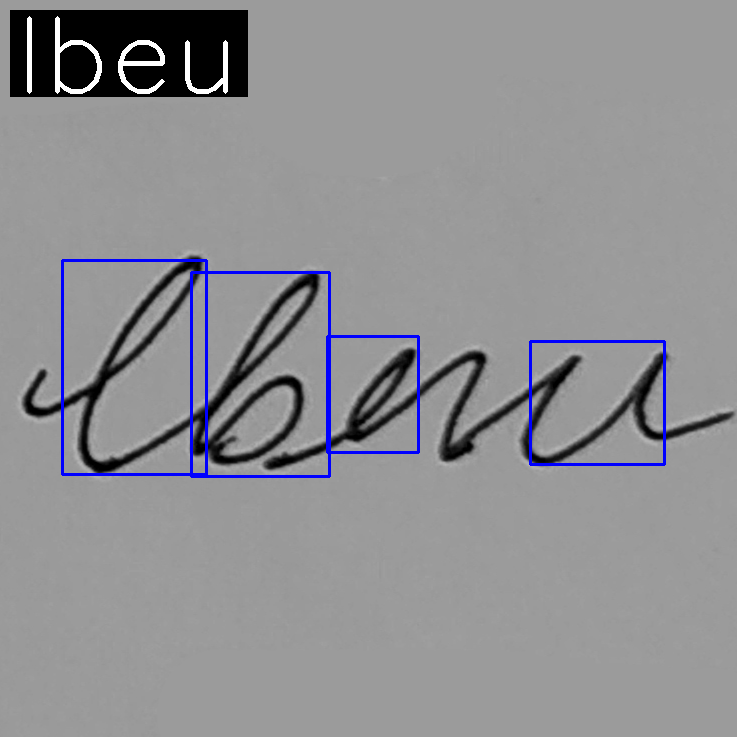b: (186, 267, 324, 469)
i: (69, 252, 208, 477)
n: (343, 342, 488, 470)
u: (515, 347, 676, 469)
